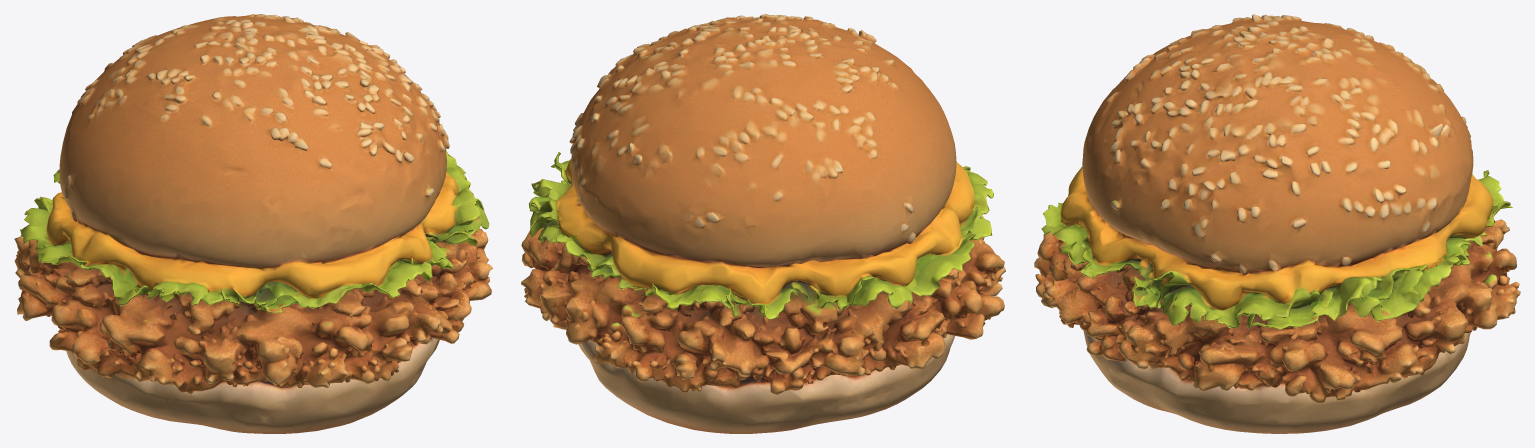
The picture shows the model from 3 angles, left to right: view 1: azimuth 30°, elevation 25°; view 2: azimuth 150°, elevation 25°; view 3: azimuth 270°, elevation 25°; orthographic projection.
Visible parts, largest first — view 1: tripo_node_d5e3015e-93f5-4c51-9104-a01a14576000; view 2: tripo_node_d5e3015e-93f5-4c51-9104-a01a14576000; view 3: tripo_node_d5e3015e-93f5-4c51-9104-a01a14576000.
Boxes of the visible parts, <box> form: tripo_node_d5e3015e-93f5-4c51-9104-a01a14576000: <box>14,14,492,433</box>; tripo_node_d5e3015e-93f5-4c51-9104-a01a14576000: <box>521,14,1005,433</box>; tripo_node_d5e3015e-93f5-4c51-9104-a01a14576000: <box>1034,14,1520,433</box>.
Bounding box in the file's own units: 0.999 × 0.7591 × 1.
1 material, 1 textured.
